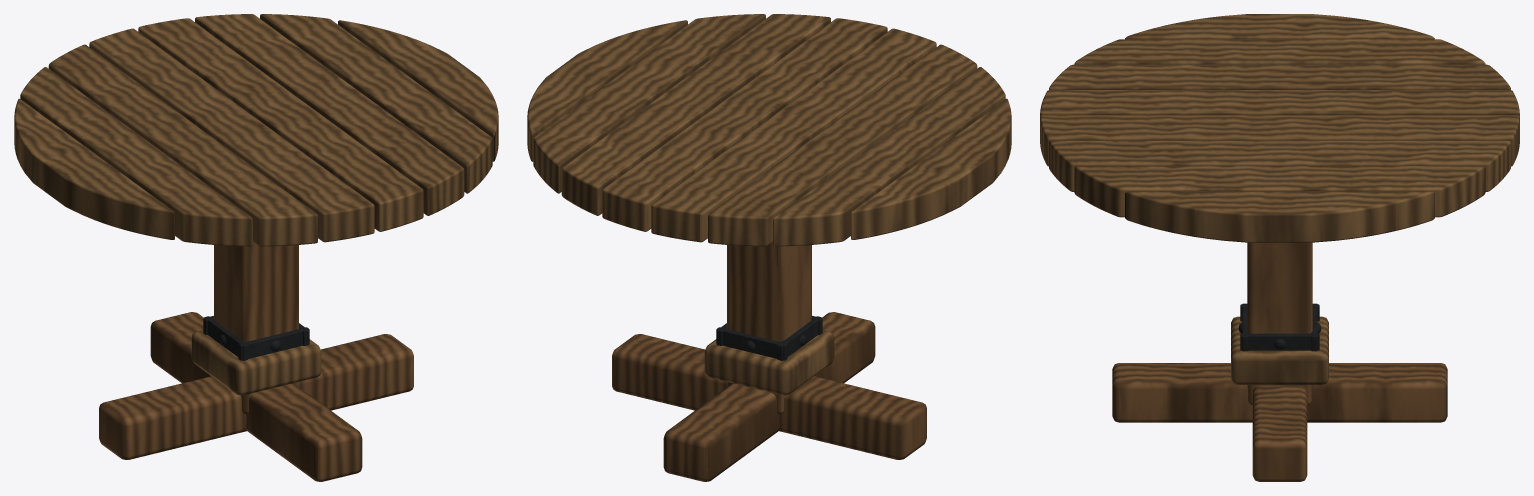
Rendered from tavern-table.glb.
The picture shows the model from 3 angles, left to right: view 1: azimuth 30°, elevation 25°; view 2: azimuth 150°, elevation 25°; view 3: azimuth 270°, elevation 25°; orthographic projection.
Visible parts, largest first — view 1: Table | round tabletop plank 00; view 2: Table | round tabletop plank 00; view 3: Table | round tabletop plank 00.
Part boxes in pixels (<box>): Table | round tabletop plank 00: <box>14,14,498,481</box>; Table | round tabletop plank 00: <box>527,14,1011,481</box>; Table | round tabletop plank 00: <box>1040,14,1519,481</box>.
Bounding box in the file's own units: 1.74 × 1.22 × 1.76.
Materials: 1 (1 with a texture image).
